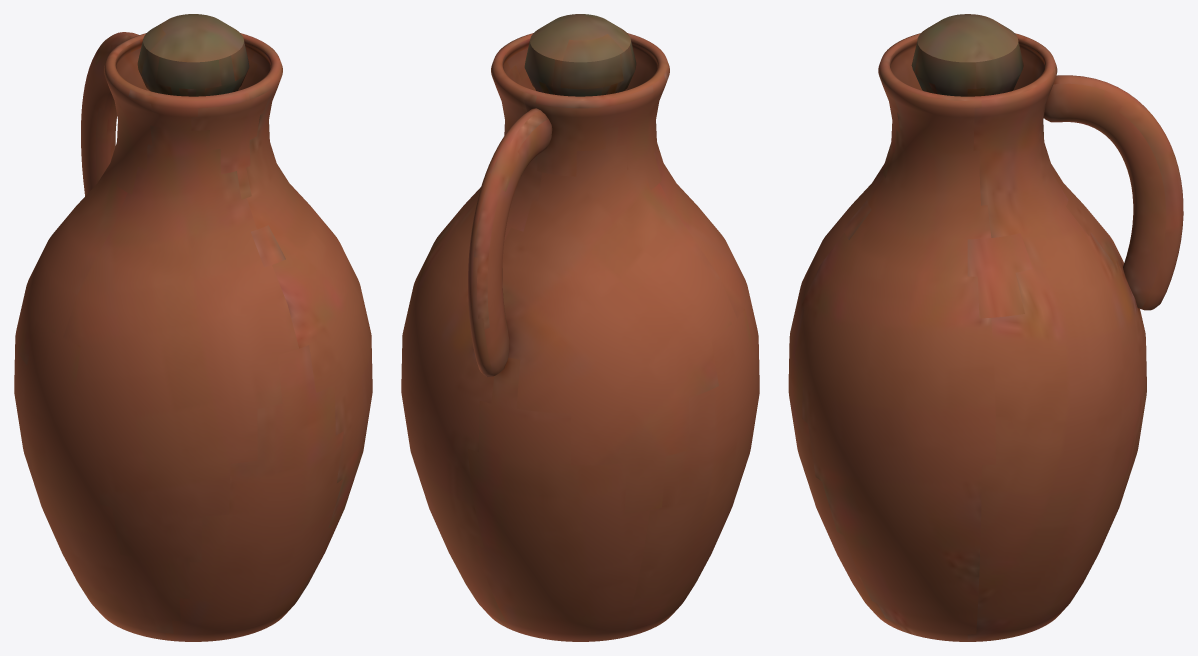
The model's file is wine_jug.glb.
The picture shows the model from 3 angles, left to right: view 1: azimuth 30°, elevation 25°; view 2: azimuth 150°, elevation 25°; view 3: azimuth 270°, elevation 25°; orthographic projection.
Visible parts, largest first — view 1: wine_jug; view 2: wine_jug; view 3: wine_jug.
Part boxes in pixels (<box>): wine_jug: <box>14,14,372,641</box>; wine_jug: <box>401,14,759,641</box>; wine_jug: <box>788,14,1183,641</box>.
Bounding box in the file's own units: 0.1199 × 0.2179 × 0.1321.
Materials: 1 (1 with a texture image).
